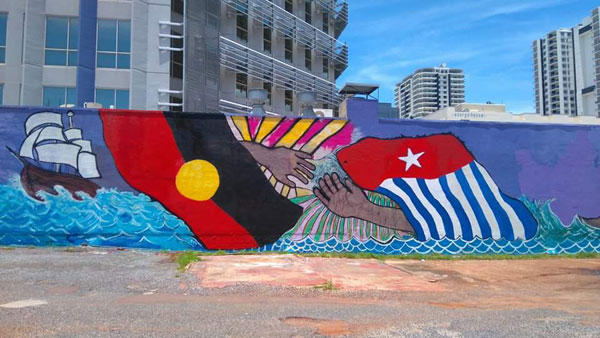aboriginal_flag: (96, 101, 310, 261)
